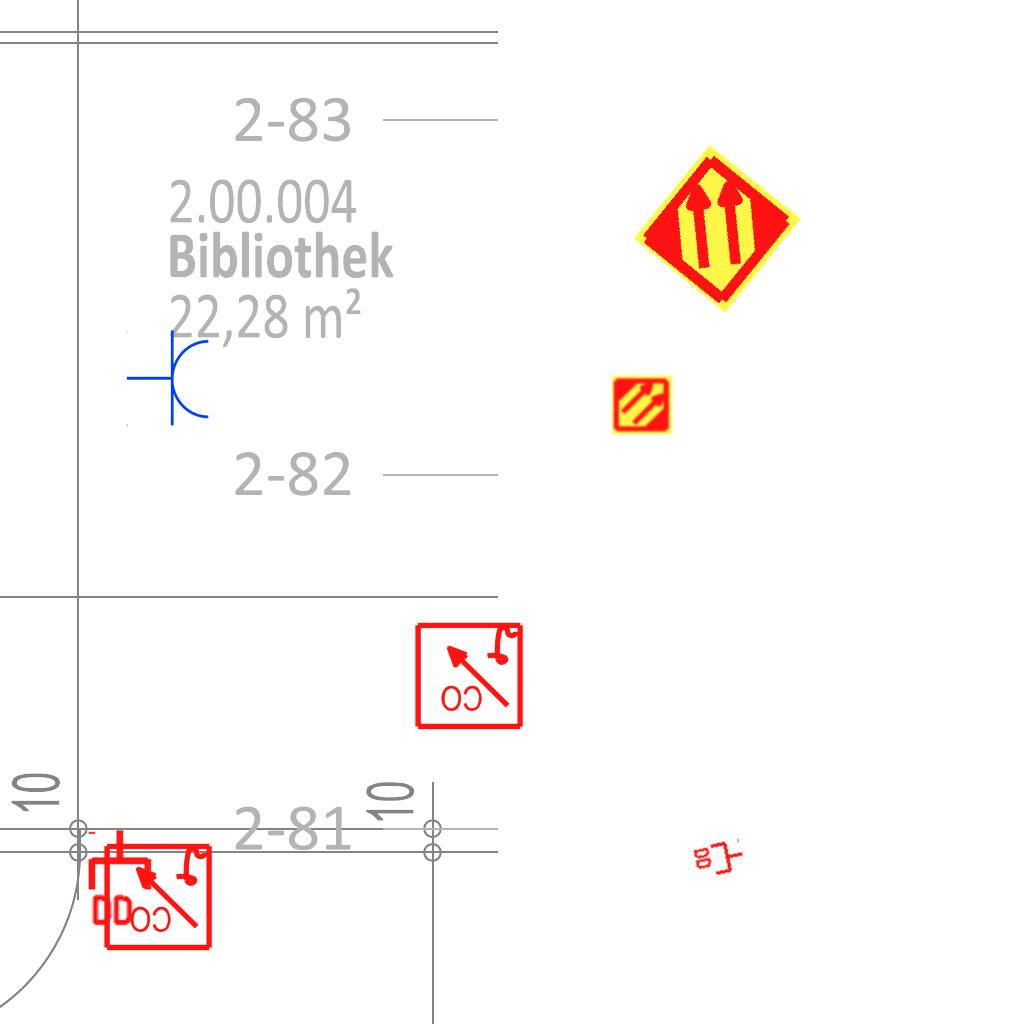ASR_Ansaugrauchmelder: (629, 140, 806, 317), (611, 374, 673, 436)
Datenanschluss_zweifach: (87, 827, 156, 930), (690, 837, 748, 882)
ROA_Rauchmelder_optisch_mit_Signalgeber_(Sockelsirene): (412, 618, 525, 731), (101, 839, 214, 952)
Schukosteckdose_einfach: (126, 329, 213, 429)
